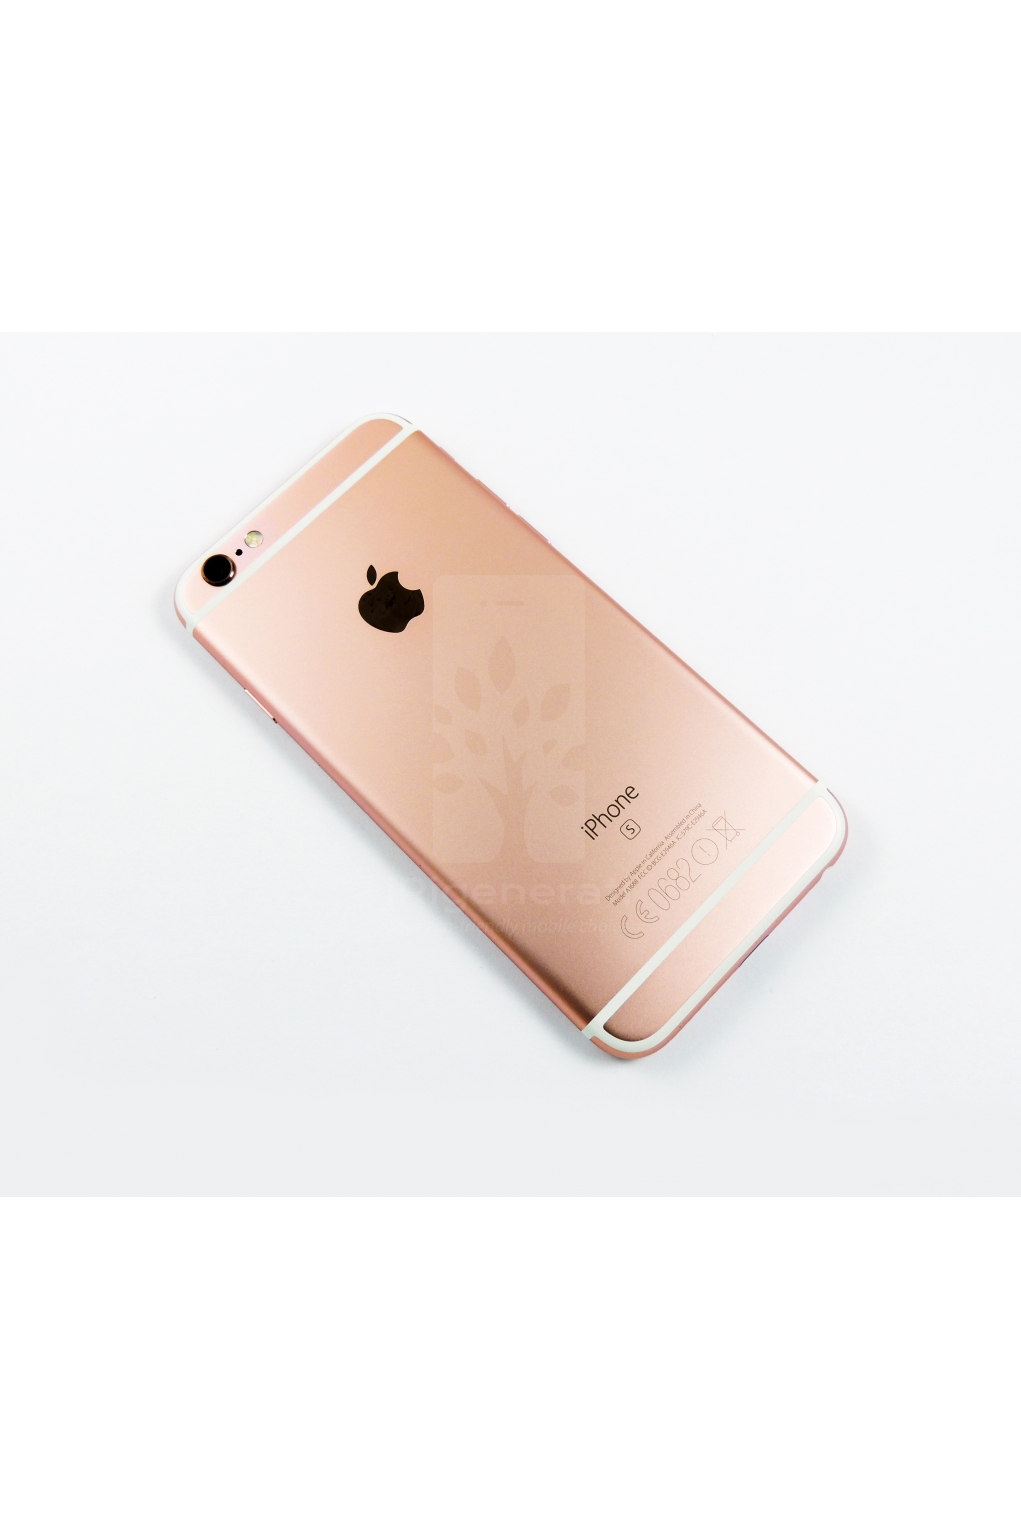smartphone: (172, 414, 851, 1063)
